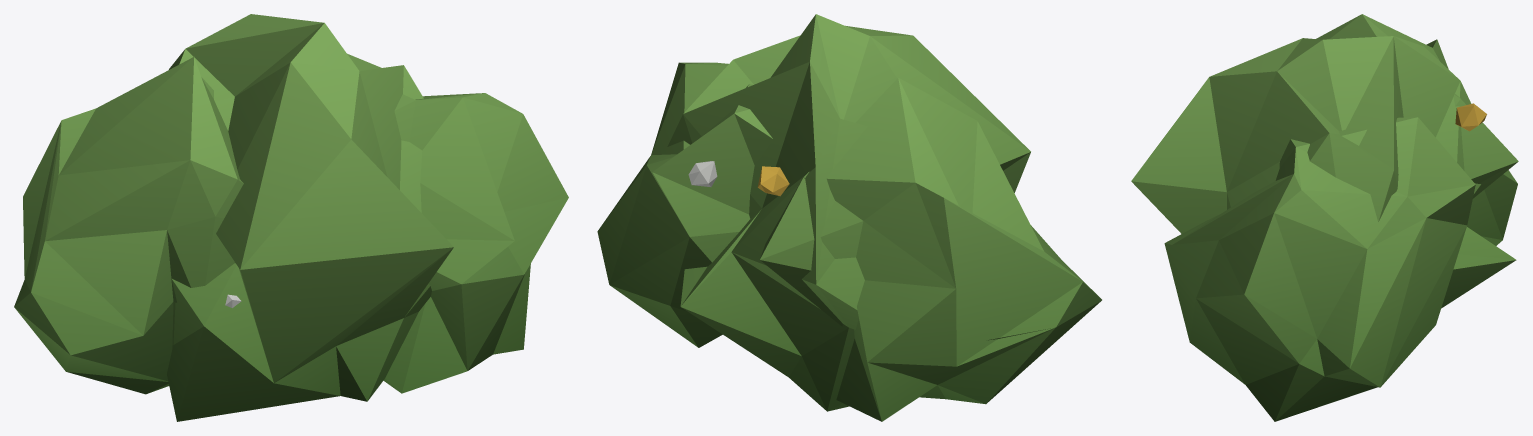
The model's file is bush-round-01.glb.
3 views of the same model, side by side, from view 1: azimuth 30°, elevation 25°; view 2: azimuth 150°, elevation 25°; view 3: azimuth 270°, elevation 25° (orthographic). The views are drawn at different scales.
Visible parts, largest first — view 1: bush_round_01; view 2: bush_round_01; view 3: bush_round_01.
Part boxes in pixels (left/top/right/bottom): bush_round_01: left=14, top=14, right=568, bottom=421; bush_round_01: left=597, top=14, right=1101, bottom=421; bush_round_01: left=1131, top=14, right=1518, bottom=421.
Size of the model in its own units: 1.63 by 1.09 by 1.24.
